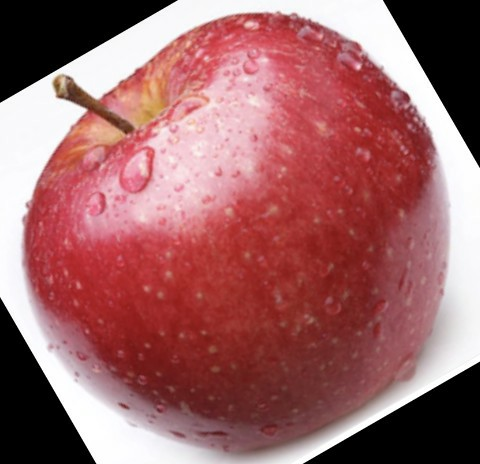fresh_apple: (29, 11, 452, 453)
